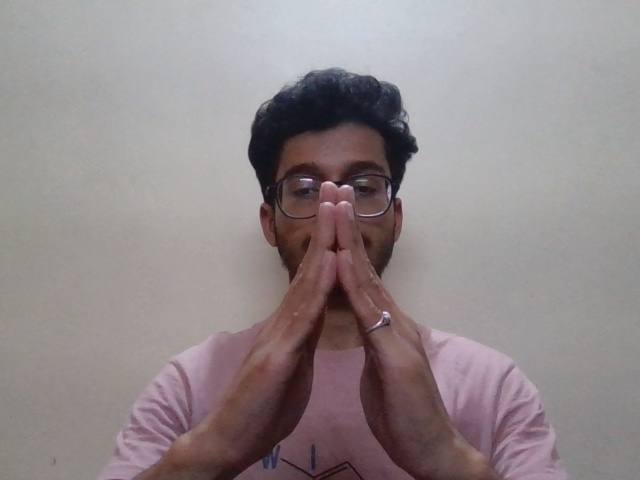home: (214, 182, 479, 459)
